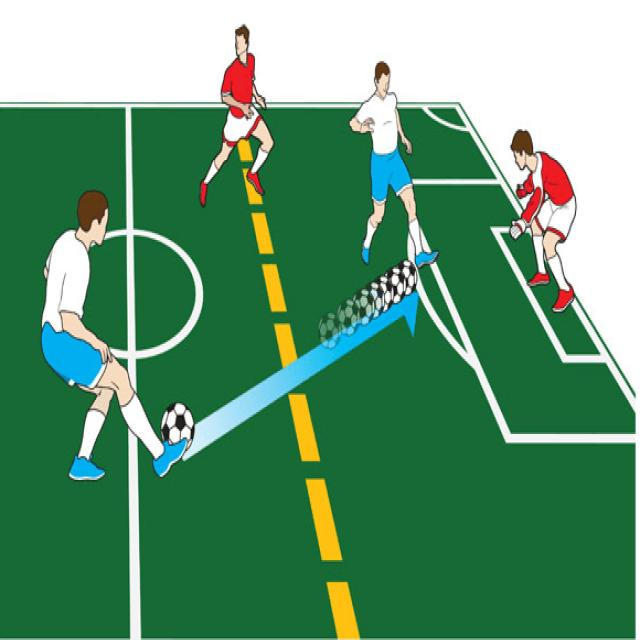offside: (181, 12, 436, 265)
